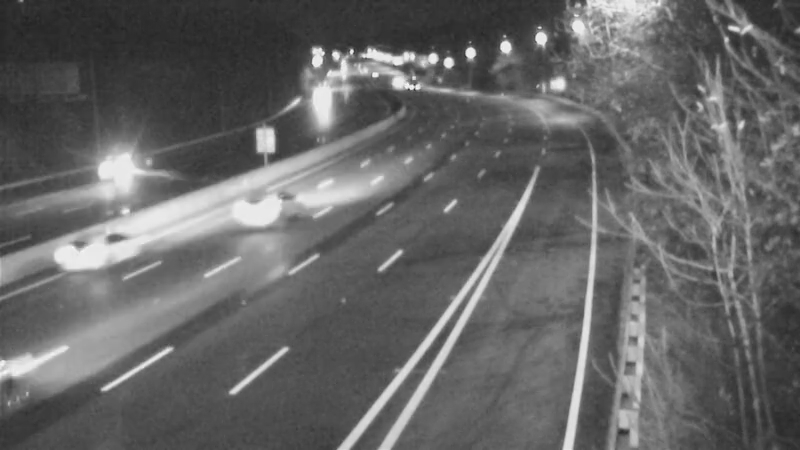vehicle: (213, 175, 293, 255), (51, 213, 131, 293), (71, 134, 151, 214), (368, 54, 418, 104), (384, 57, 434, 107), (292, 75, 342, 125)
